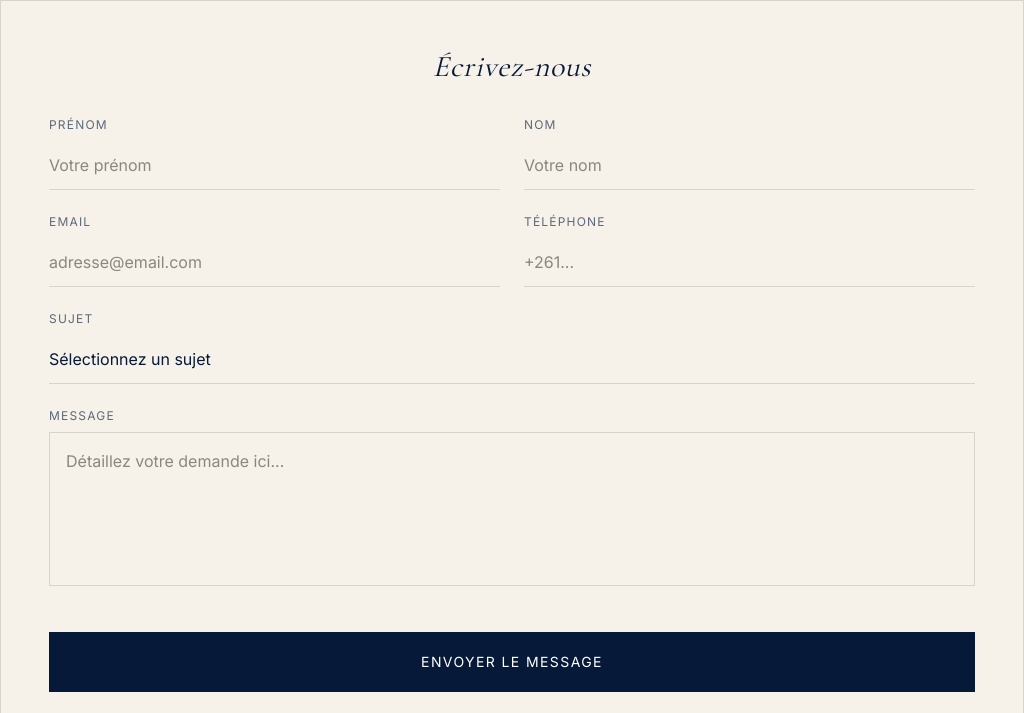
Test: ContactForm › shows validation errors and does not submit when required fields are empty
This screenshot has width=1024, height=713.
Click the button "Envoyer le message" at (512, 662), box [49,632,975,692]
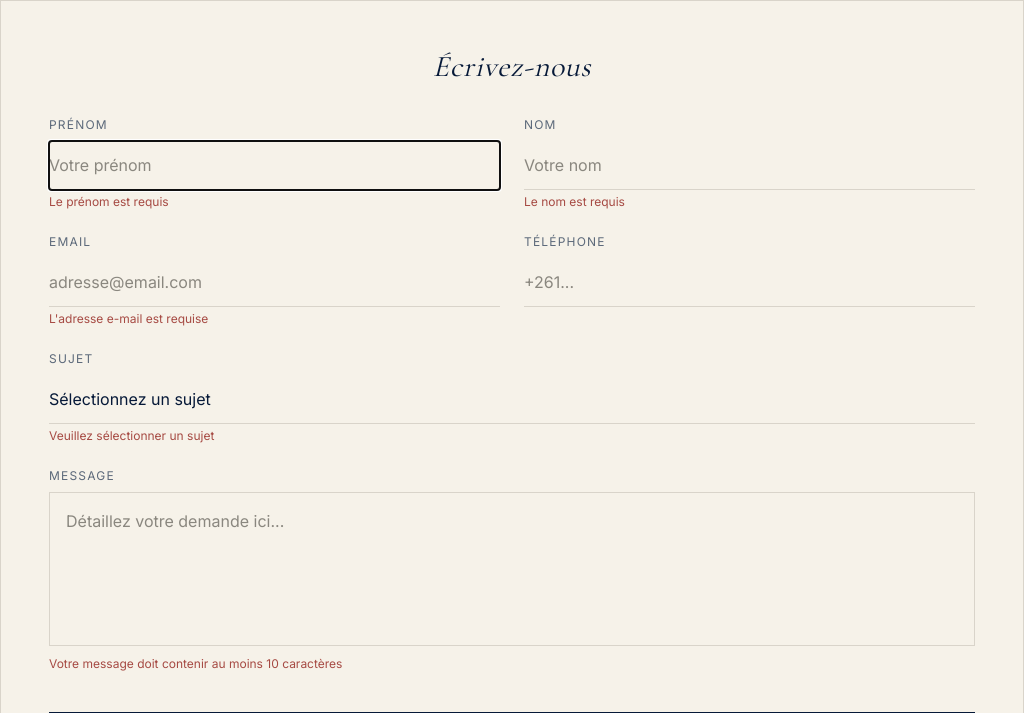
Result: the text "Le prénom est requis" is shown at [49,194,169,209]
Result: the text "Le nom est requis" is shown at [524,194,625,209]
Result: the text "L'adresse e-mail est requise" is shown at [49,311,208,326]
